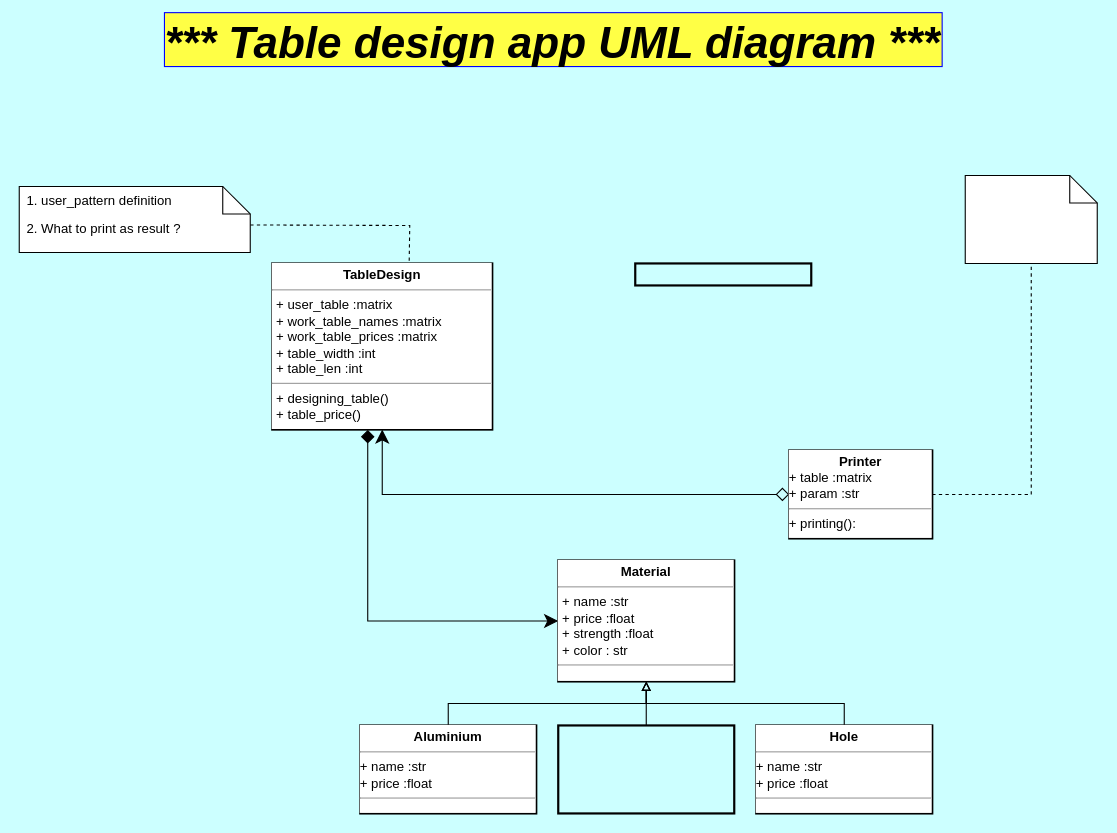
The diagram is 1117 pixels wide and 833 high, and some of its shapes have lost their labels. The shapes that lost their labels are listed below. From the top down, each one's centre as x and y in pixels, then its label:
At (1030,218): "Printed result".
At (723,274): "Exceptions".
At (646,769): "Linden + name :str + price :float".
